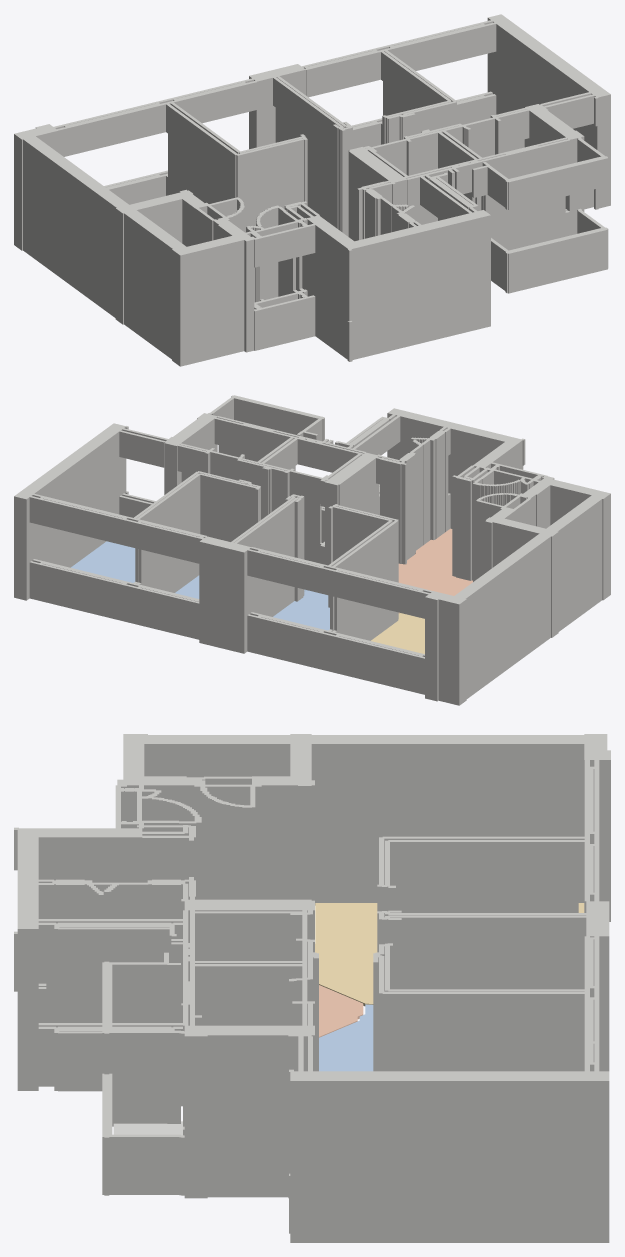
3 views of the same model, one above another, from view 1: azimuth 30°, elevation 25°; view 2: azimuth 150°, elevation 25°; view 3: azimuth 270°, elevation 25° (orthographic). The views are drawn at different scales.
Visible parts, largest first — view 1: walls; view 2: walls, room:kitchen:6, room:bedroom:2, room:bedroom:1, room:living:0; view 3: walls, room:living:0, room:bedroom:1, room:kitchen:6, room:ledge:8.
Boxes of the visible parts, <box> form: walls: <box>14,14,610,366</box>; walls: <box>14,395,610,705</box>; room:kitchen:6: <box>398,528,472,613</box>; room:bedroom:2: <box>71,541,135,582</box>; room:bedroom:1: <box>273,590,329,630</box>; room:living:0: <box>371,613,424,653</box>; walls: <box>14,734,610,1242</box>; room:living:0: <box>315,903,584,1006</box>; room:bedroom:1: <box>319,1004,373,1071</box>; room:kitchen:6: <box>319,985,363,1037</box>; room:ledge:8: <box>113,1121,182,1135</box>.
Bounding box in the file's own units: 12.86 × 2.8 × 9.36.
